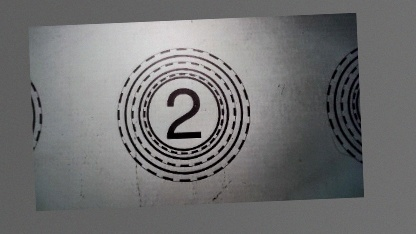2r: (114, 45, 252, 185)
